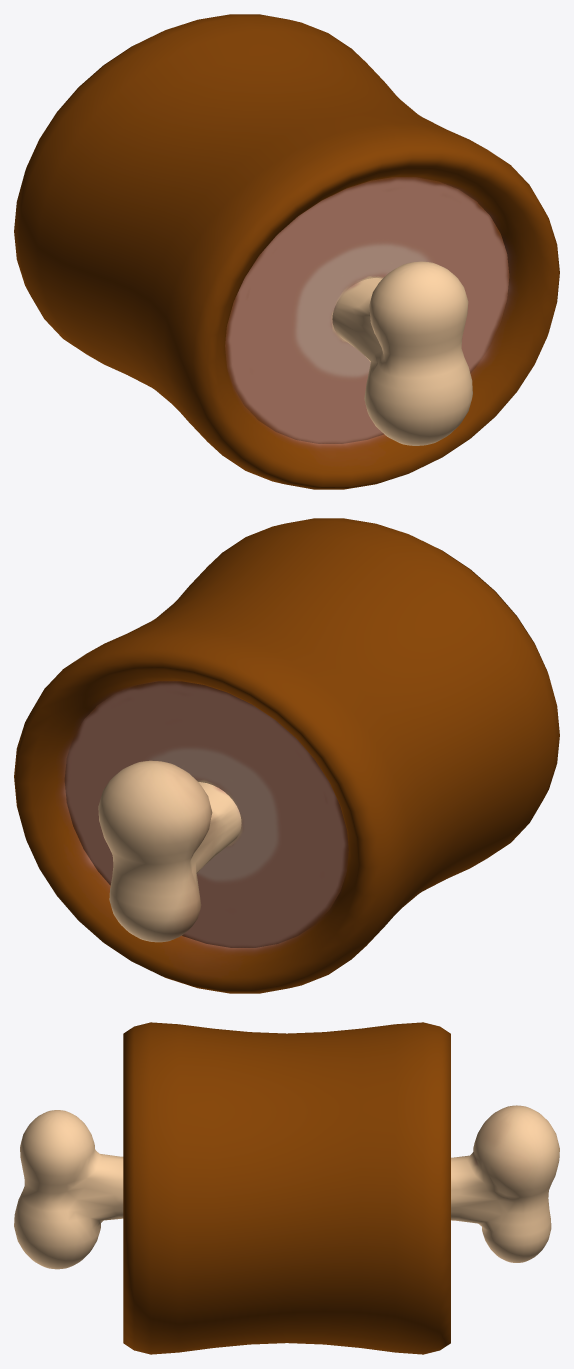
The model's file is Meat.fbx.
The picture shows the model from 3 angles, top to bottom: view 1: azimuth 30°, elevation 25°; view 2: azimuth 150°, elevation 25°; view 3: azimuth 270°, elevation 25°; orthographic projection. The views are drawn at different scales.
Parts seen in each view (by area): view 1: Sphere004; view 2: Sphere004; view 3: Sphere004.
Boxes of the visible parts, box(x1,y1,x2,y2) form: Sphere004: box(14, 14, 559, 489); Sphere004: box(14, 518, 559, 993); Sphere004: box(14, 1022, 559, 1354).
Bounding box in the file's own units: 61.6 × 53.48 × 90.39.
